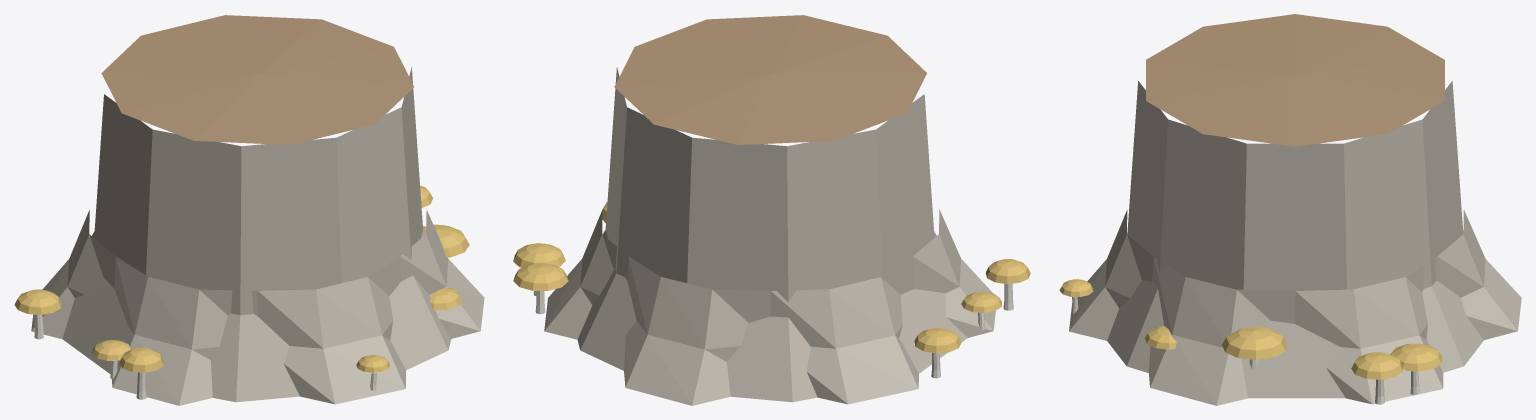
Rendered from dense-temperate-forest-flora-honey-fungus-stump-90a55b79__28411.glb.
3 views of the same model, side by side, from view 1: azimuth 30°, elevation 25°; view 2: azimuth 150°, elevation 25°; view 3: azimuth 270°, elevation 25° (orthographic).
Parts seen in each view (by area): view 1: honey-fungus-stump; view 2: honey-fungus-stump; view 3: honey-fungus-stump.
Boxes of the visible parts, x1=… form: honey-fungus-stump: x1=14, y1=15, x2=484, y2=405; honey-fungus-stump: x1=513, y1=15, x2=1030, y2=405; honey-fungus-stump: x1=1059, y1=14, x2=1521, y2=405.
Size of the model in its own units: 0.9528 by 0.512 by 0.8947.
